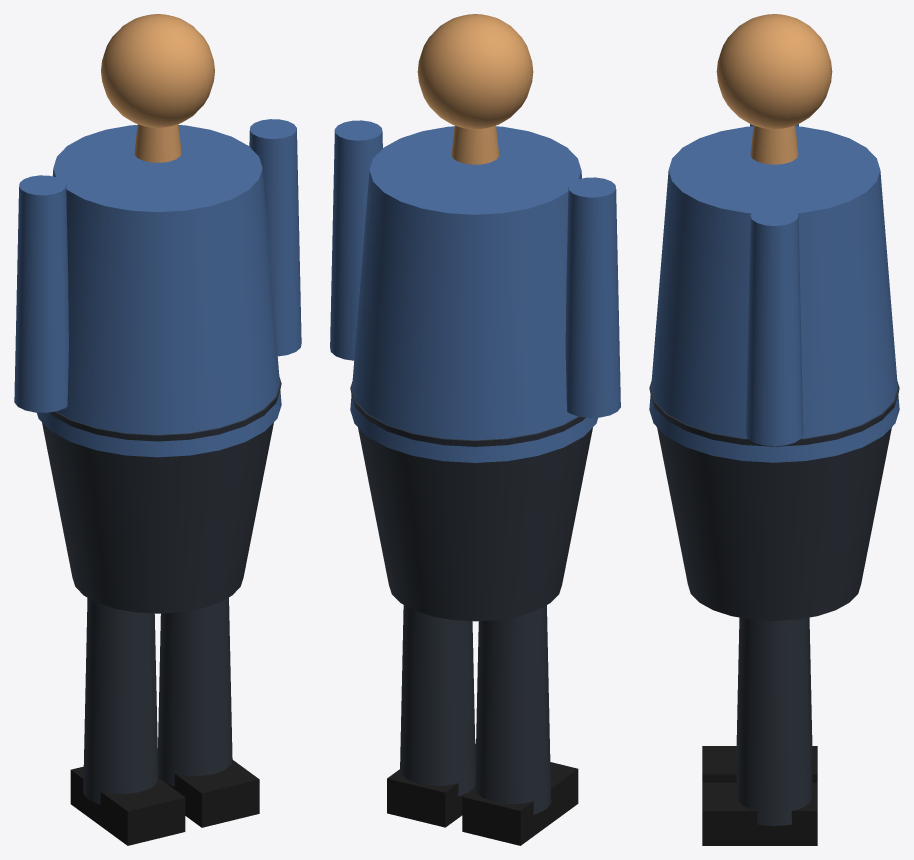
The model's file is demo.glb.
3 views of the same model, side by side, from view 1: azimuth 30°, elevation 25°; view 2: azimuth 150°, elevation 25°; view 3: azimuth 270°, elevation 25° (orthographic).
Size of the model in its own units: 0.68 by 1.82 by 0.52.
